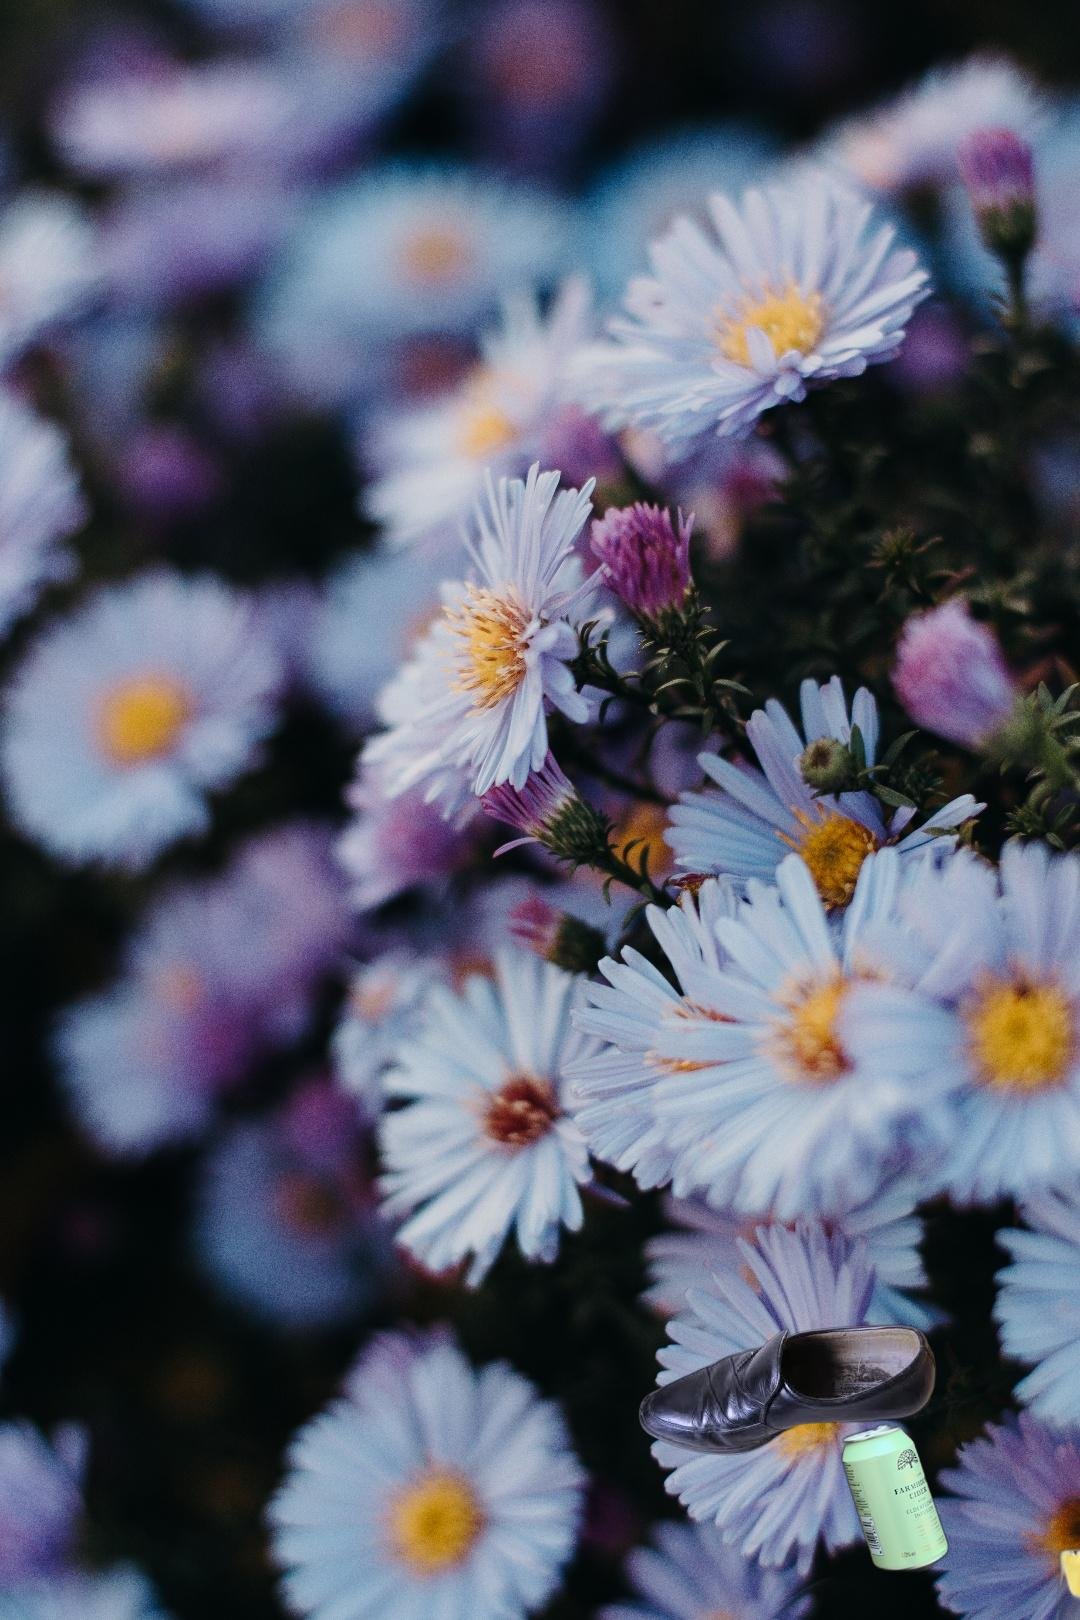metal-cans: (838, 1419, 953, 1579)
paper: (1037, 1525, 1080, 1620)
shoes: (636, 1321, 938, 1458)
